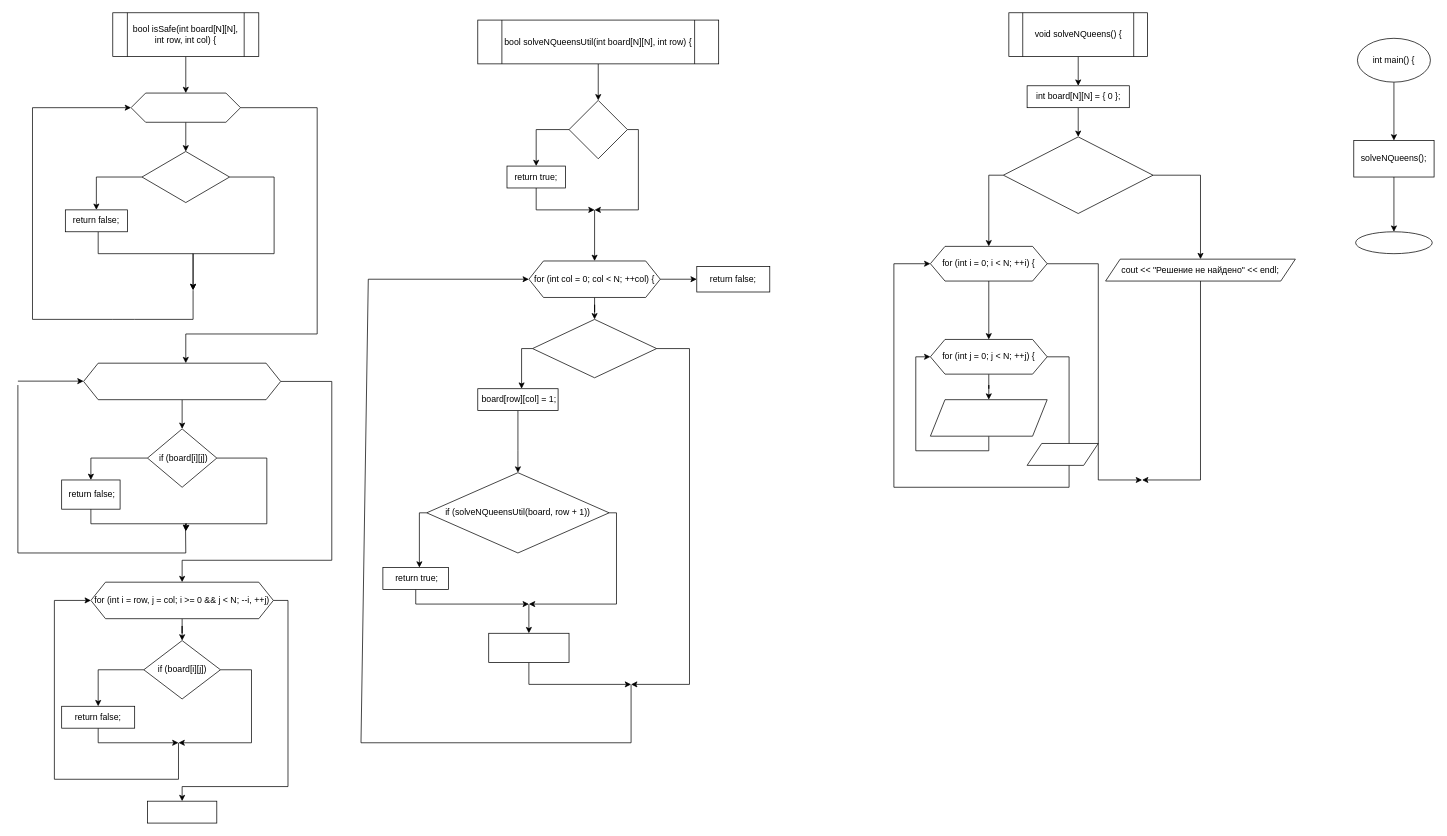
Image size: 1447x836. Some labels were removed from this diagram. The shapes that lost their labels are listed below. From the top down, each one's box as (x1, y1, x2, y2) in pixels, then its label:
(130, 92, 241, 122): for (int i = 0; i < row; ++i)
(568, 100, 627, 159): if (row == N)
(141, 151, 230, 203): if (board[i][col])
(1003, 136, 1153, 214): if (solveNQueensUtil(board, 0)) {
(1355, 231, 1432, 254): return 0; }
(532, 319, 657, 378): if (isSafe(board, row, col)) {
(83, 362, 281, 400): for (int i = row, j = col; i >= 0 && j >= 0; --i, --j)
(930, 399, 1047, 436): cout << board[i][j] << " ";
(1026, 443, 1098, 465): cout << endl;
(488, 633, 569, 662): board[row][col] = 0; }
(147, 800, 217, 823): return true; }
